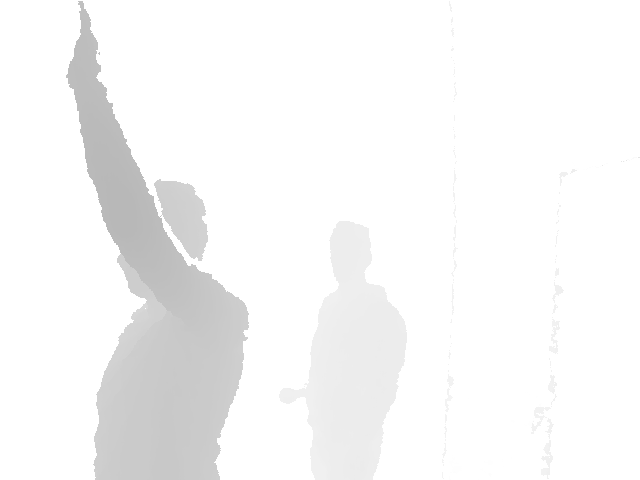hand: (66, 1, 102, 88)
head: (115, 179, 209, 300), (328, 222, 371, 288)
personw: (65, 1, 249, 480), (277, 222, 410, 480)
